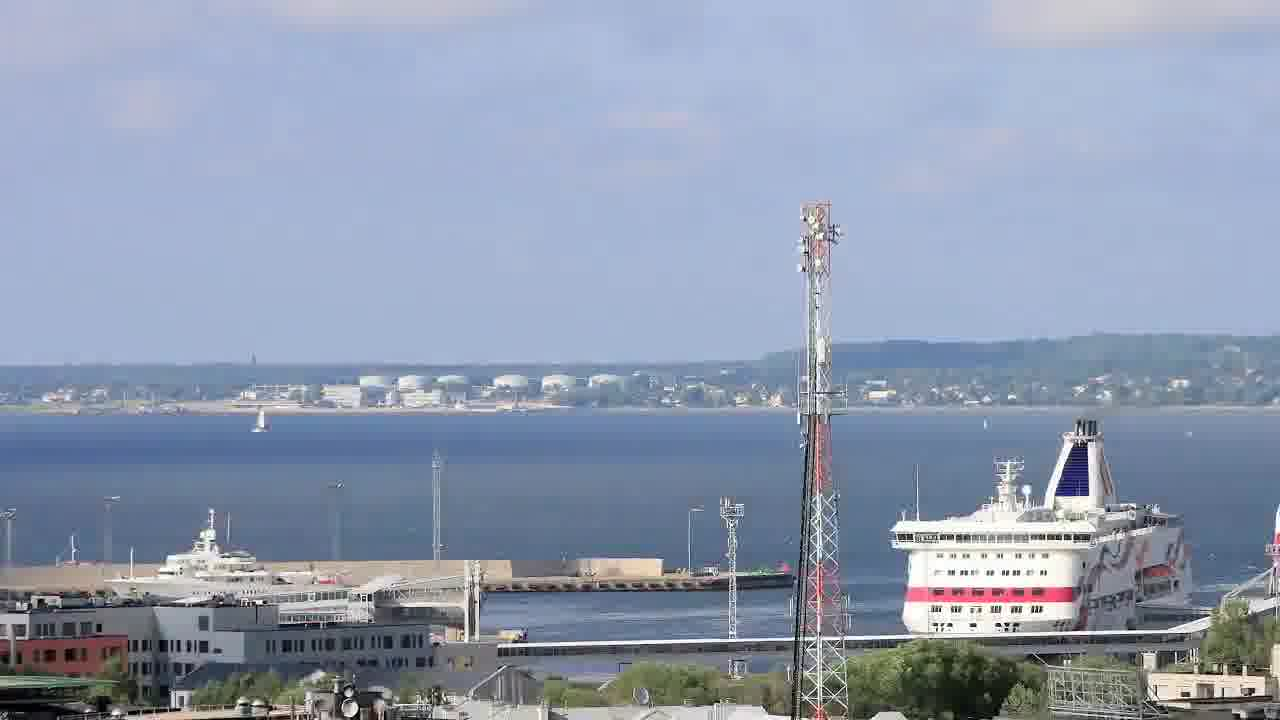type-2: (237, 396, 291, 450)
type-3: (868, 415, 1225, 638), (89, 518, 402, 620)
